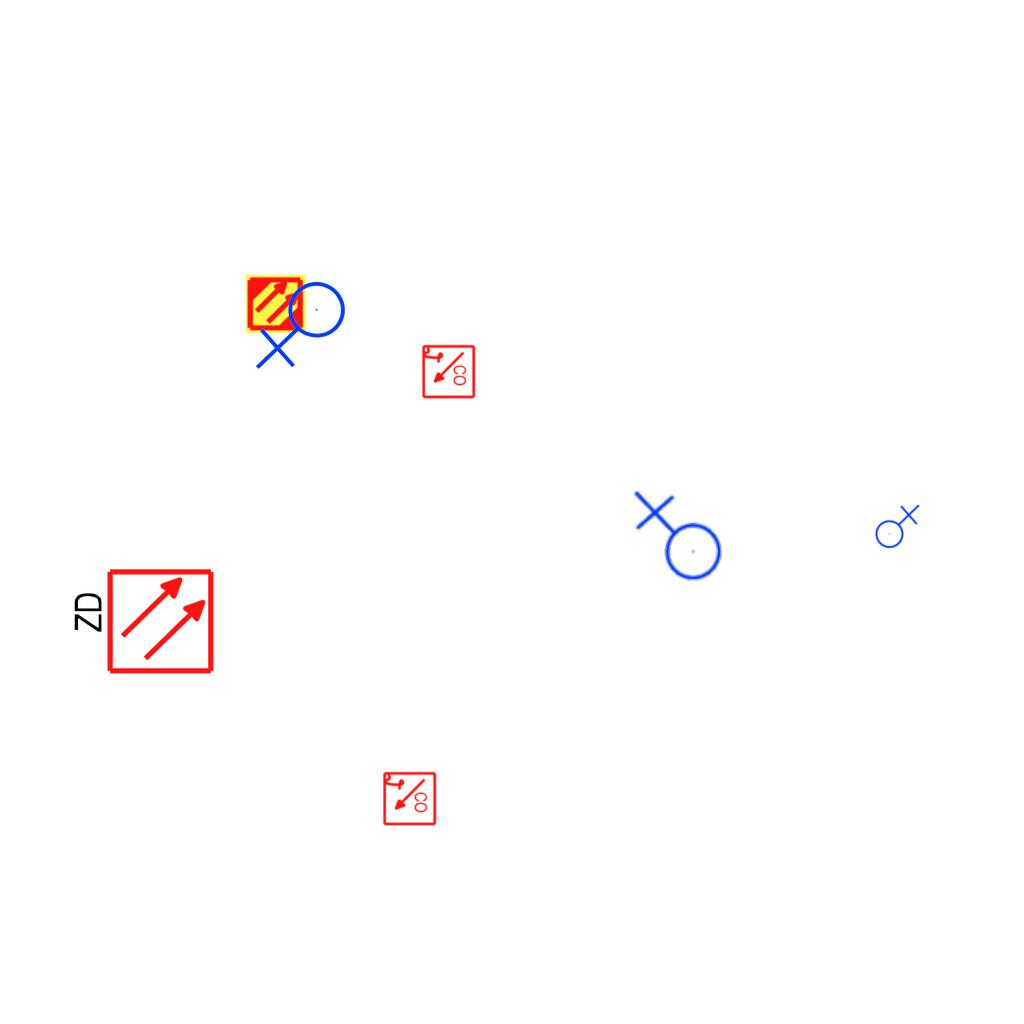ASR_Ansaugrauchmelder: (245, 273, 307, 335)
Elektroanschluss_allgemein_230V_Geraeteanschlussdose_230V: (629, 490, 723, 589), (255, 280, 354, 374), (871, 502, 920, 549)
ROA_Rauchmelder_optisch_mit_Signalgeber_(Sockelsirene): (420, 344, 476, 400), (381, 771, 437, 827)
ZD_Melder_in_Zwischendecke_mit_Revisionsoeffnung_mind_40_x_40_cm: (67, 566, 216, 680)
